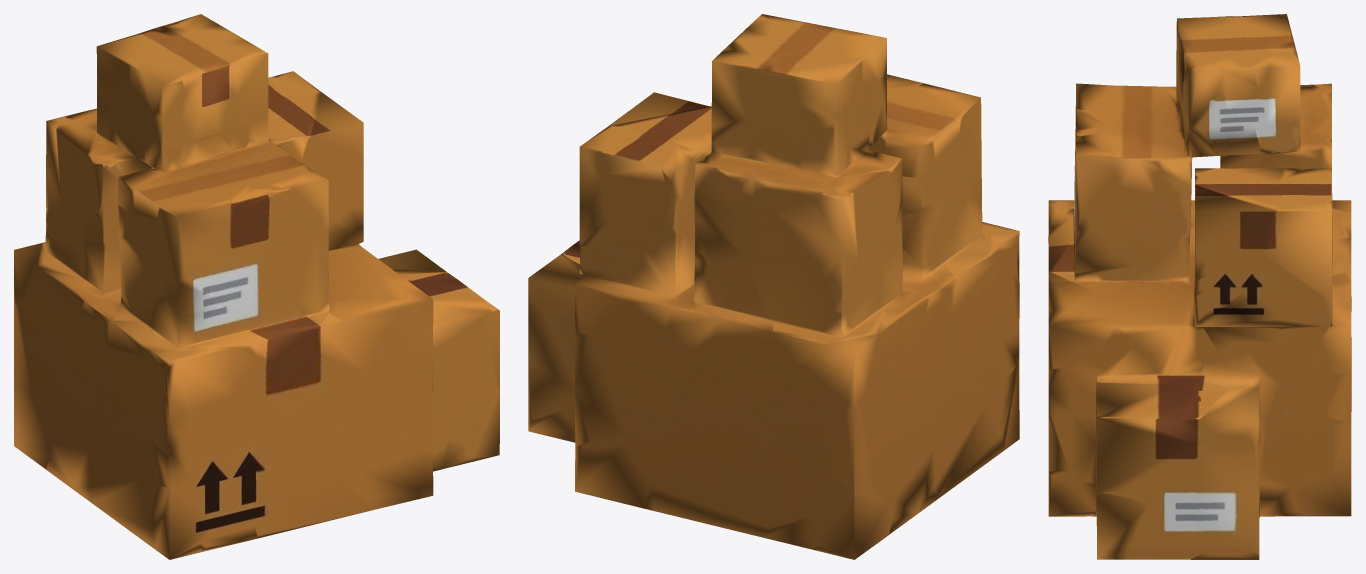
The model's file is caixas.glb.
The picture shows the model from 3 angles, left to right: view 1: azimuth 30°, elevation 25°; view 2: azimuth 150°, elevation 25°; view 3: azimuth 270°, elevation 25°; orthographic projection. The views are drawn at different scales.
Size of the model in its own units: 1.71 by 1.9 by 1.3.
Materials: 1 (1 with a texture image).
